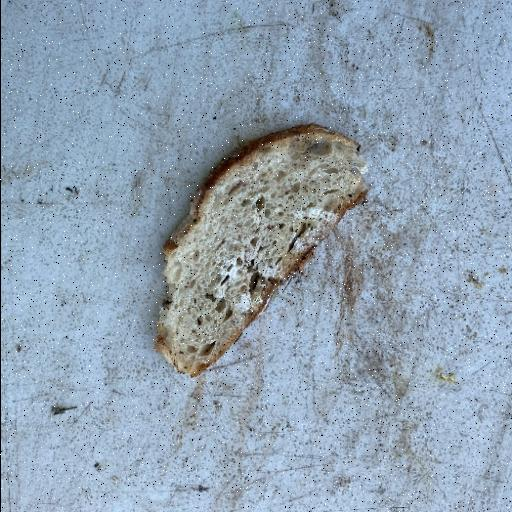Waste: (152, 121, 370, 378)
